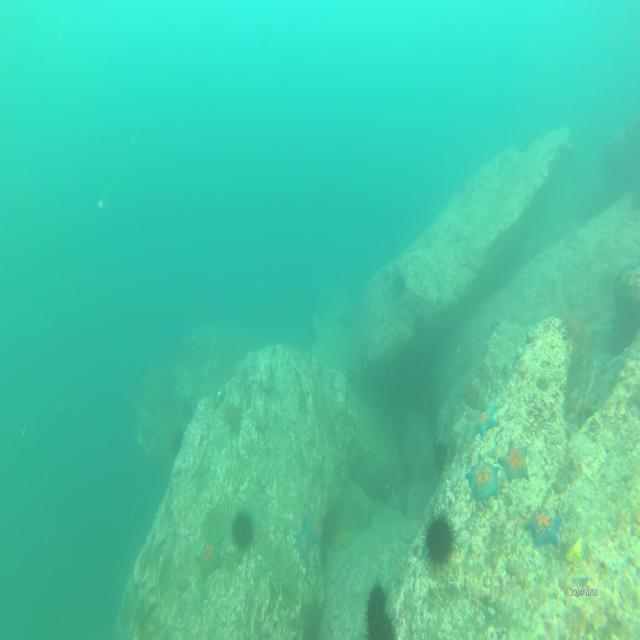echinus: (422, 510, 456, 572), (363, 576, 388, 616), (367, 608, 397, 640), (229, 512, 254, 550), (564, 306, 586, 344)
starfish: (464, 453, 498, 508), (526, 504, 562, 548), (499, 435, 529, 482), (194, 535, 226, 576), (471, 403, 499, 438), (302, 507, 323, 545), (294, 530, 310, 562)
